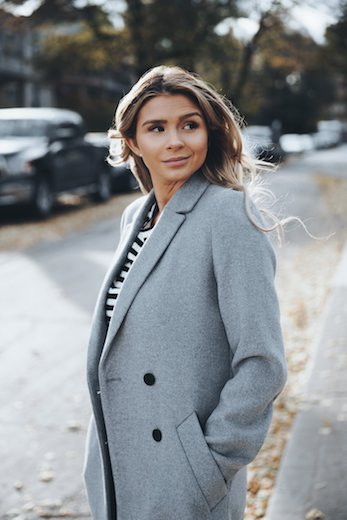F_W_suit jacket: (63, 181, 287, 517)
